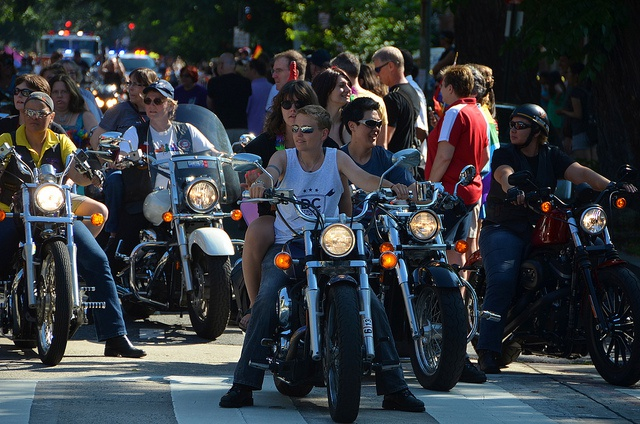non-vehicle: (230, 151, 417, 417), (464, 162, 640, 390), (112, 103, 256, 339), (368, 163, 500, 391), (0, 132, 123, 365)
